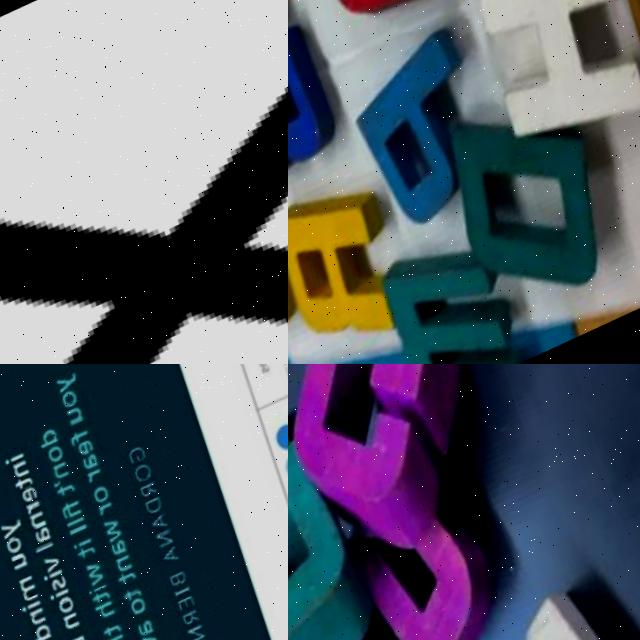A: (163, 554, 185, 575), (152, 520, 173, 540), (36, 530, 55, 550), (83, 459, 102, 478), (113, 545, 131, 564), (137, 625, 158, 640)
B: (288, 21, 358, 201), (172, 580, 190, 597)
D: (444, 105, 623, 320), (288, 428, 411, 640), (38, 432, 62, 454), (147, 504, 166, 523), (32, 627, 57, 640)
E: (21, 489, 42, 509), (78, 443, 97, 465), (181, 604, 199, 621), (260, 367, 270, 378)
F: (69, 433, 93, 453), (62, 504, 84, 524)
G: (288, 364, 523, 594), (128, 451, 149, 472)
H: (440, 0, 640, 211), (97, 608, 120, 629)
I: (24, 605, 46, 619), (5, 457, 27, 471), (46, 575, 67, 588), (90, 590, 111, 603), (75, 544, 95, 557), (52, 595, 73, 607), (67, 515, 84, 527), (177, 594, 194, 605)
K: (255, 364, 267, 373)
L: (35, 545, 57, 561), (68, 522, 88, 536), (72, 528, 91, 542)
M: (373, 222, 537, 364), (20, 580, 42, 608)
N: (31, 612, 51, 634), (13, 463, 33, 484), (53, 466, 73, 487), (157, 537, 178, 557), (66, 618, 85, 638), (31, 517, 50, 536), (117, 561, 136, 580), (189, 632, 210, 640)
O: (131, 602, 153, 626), (59, 599, 81, 622), (48, 448, 69, 472), (135, 468, 156, 492), (6, 538, 27, 561), (60, 395, 80, 416), (94, 490, 113, 512)
P: (331, 20, 509, 253)
R: (288, 165, 424, 364), (185, 617, 204, 636), (27, 504, 46, 521), (143, 490, 160, 507), (88, 474, 106, 489), (100, 508, 117, 523)
S: (53, 582, 71, 598), (263, 376, 271, 385)
T: (55, 485, 80, 507), (118, 574, 141, 595), (123, 592, 147, 612), (14, 477, 37, 497), (77, 549, 99, 569), (93, 596, 114, 612), (105, 628, 127, 640)
U: (67, 410, 87, 432), (14, 556, 32, 575)
V: (46, 559, 64, 579)
W: (88, 565, 110, 593), (105, 524, 127, 551)
X: (0, 0, 288, 364)
Y: (2, 521, 27, 545), (57, 377, 81, 399)
